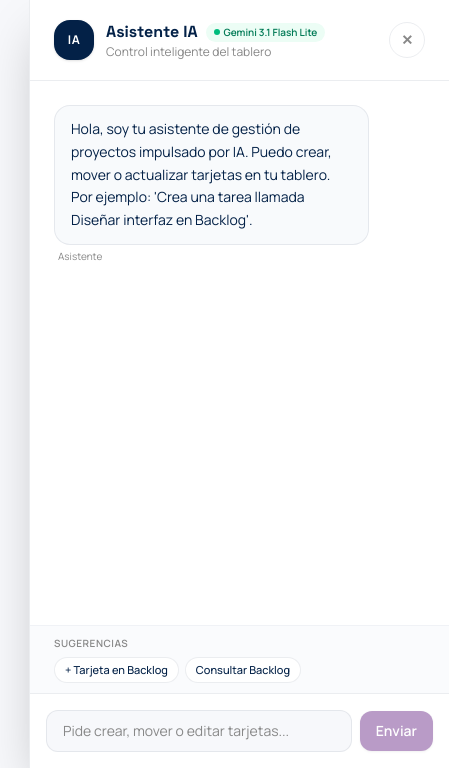
Test: AiChatSidebar › handles error response gracefully
Type "Hola" into the field with test id "ai-chat-input" at (199, 731), box [46,710,352,752]
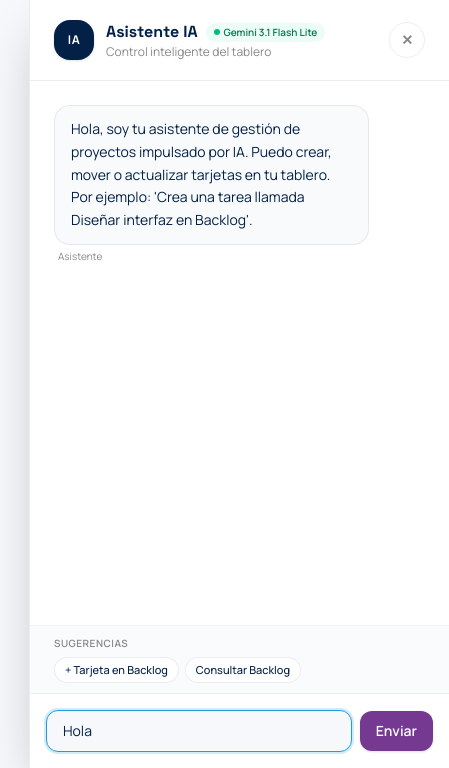
Click the button with test id "ai-chat-submit" at (396, 731), box [360,711,433,751]
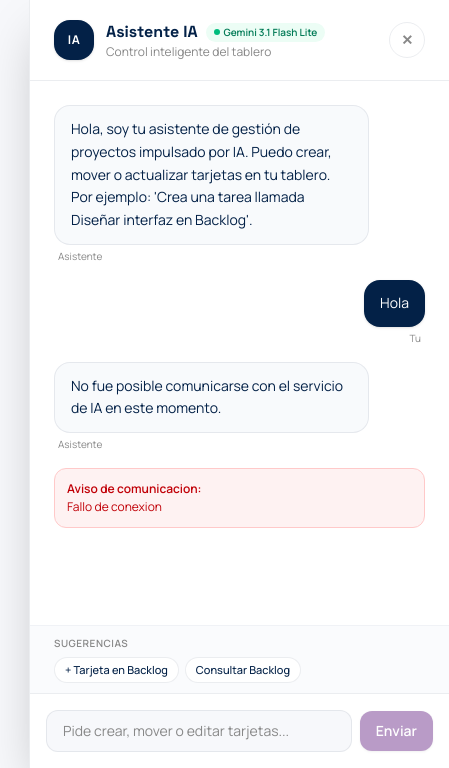
Result: the text "No fue posible comunicarse con el servicio de IA en este momento." is shown at [71,374,352,420]
Result: the text "Fallo de conexion" is shown at [67,498,162,515]
